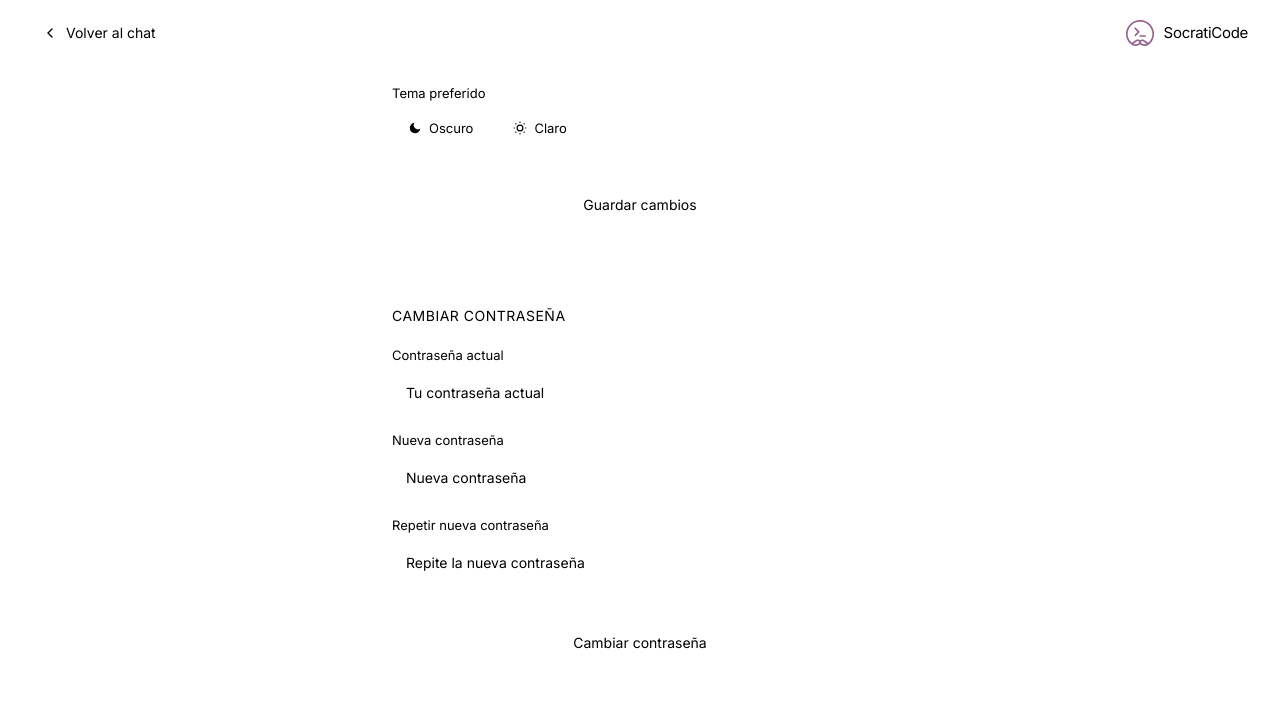
Test: ProfileView — handleChangePassword › shows passError when passwords do not match
(page scrolled)
Type "old" into the password field with id "current-password" at (640, 393), box [392,372,888,414]
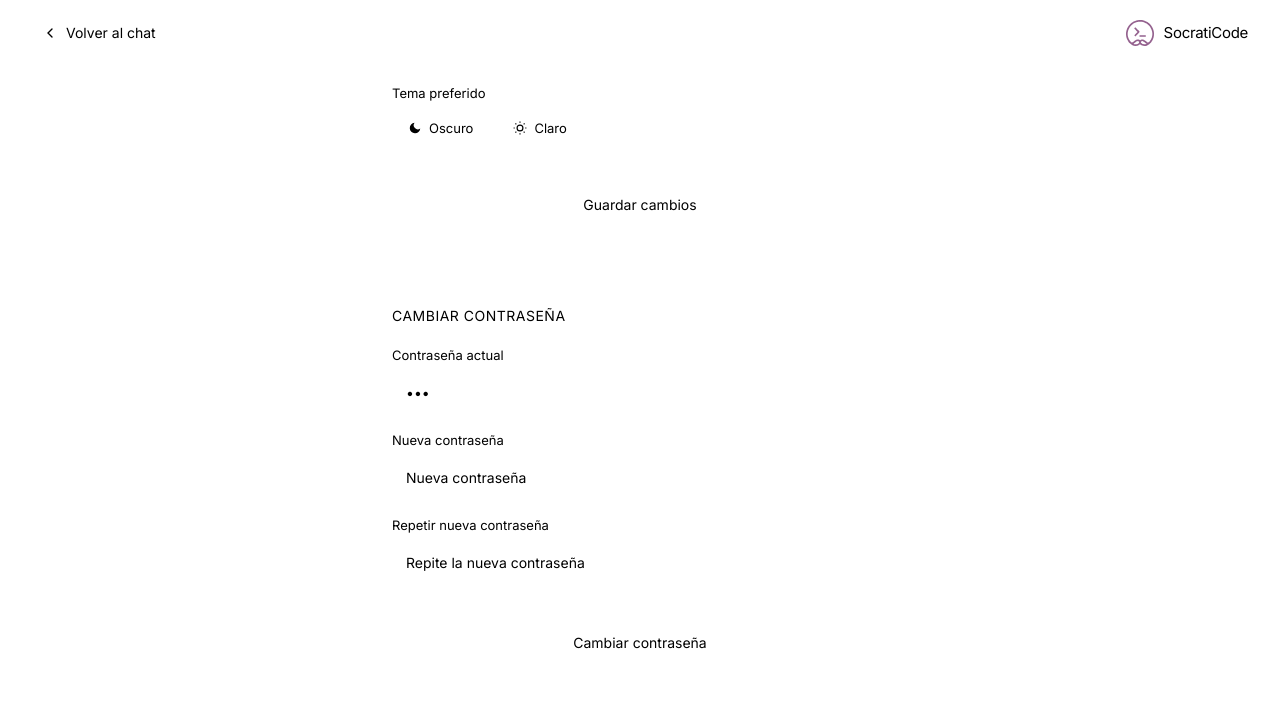
Type "newpass1" into the password field with id "new-password" at (640, 478), box [392,457,888,500]
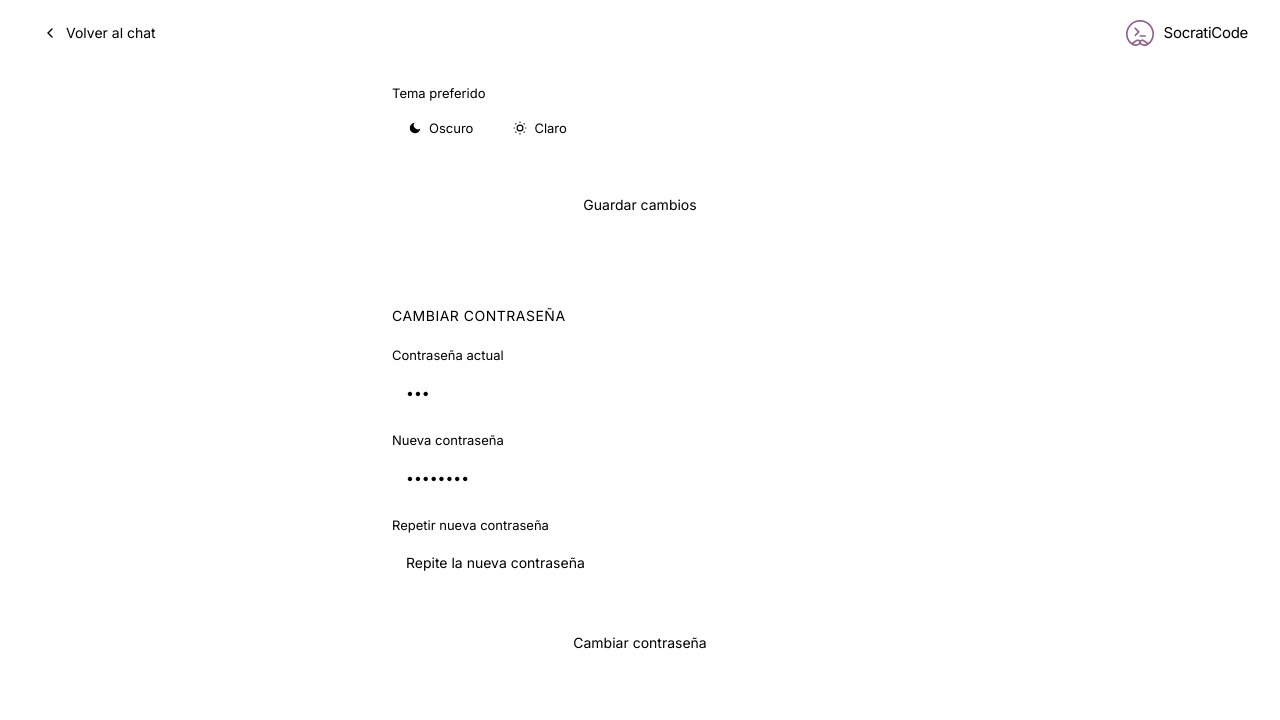
Type "newpass2" into the password field with id "new-password-confirm" at (640, 564), box [392,542,888,585]
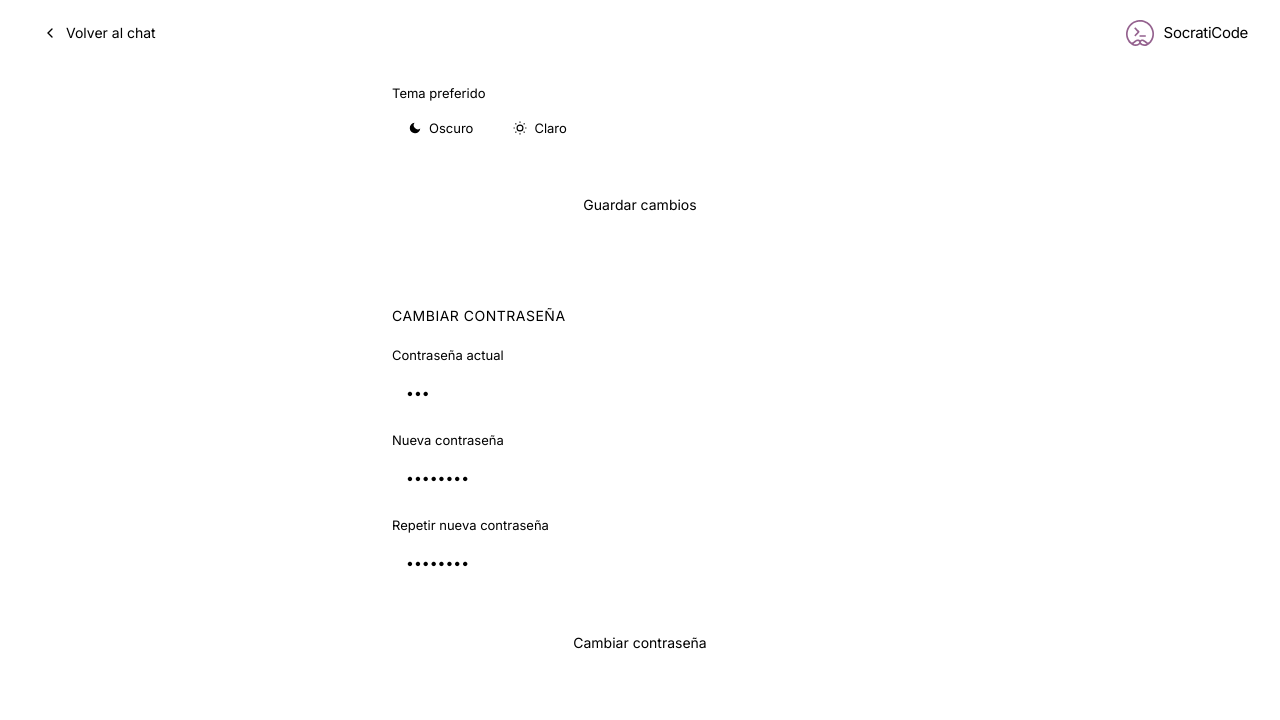
Submit the form, box [392,345,888,665]
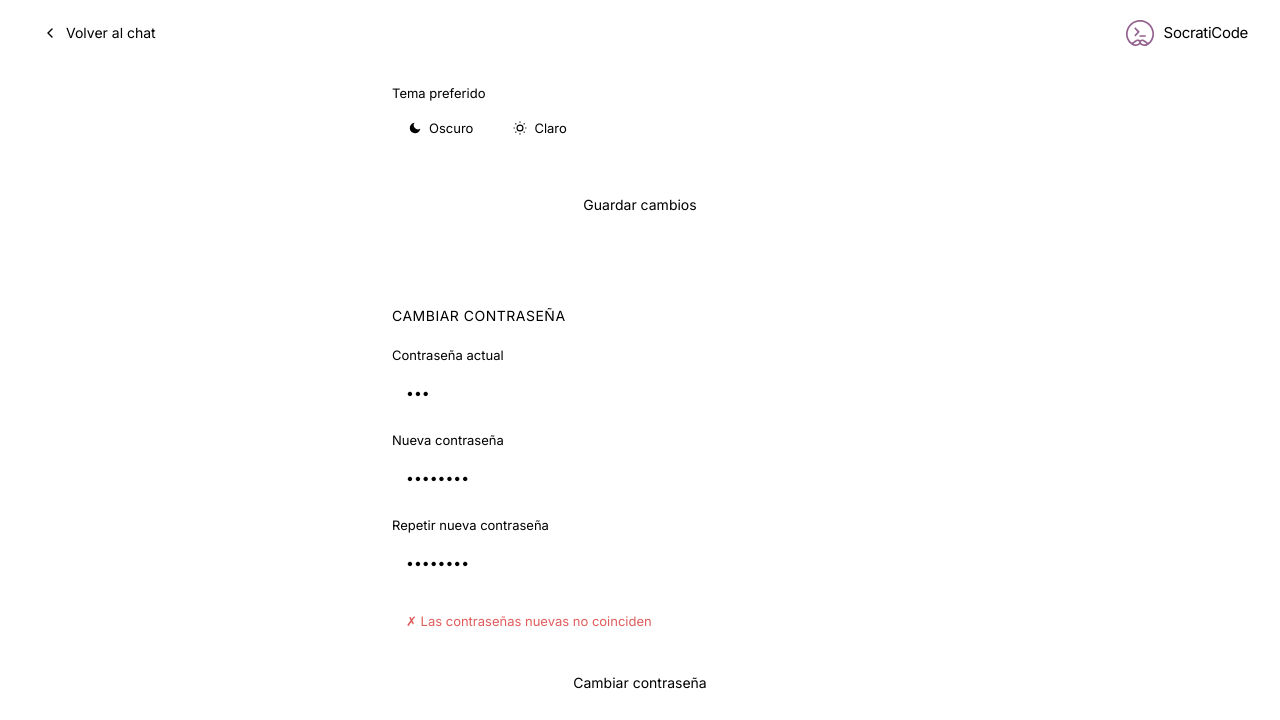
Check: the text "✗ Las contraseñas nuevas no coinciden" is shown, box [406,613,652,629]
